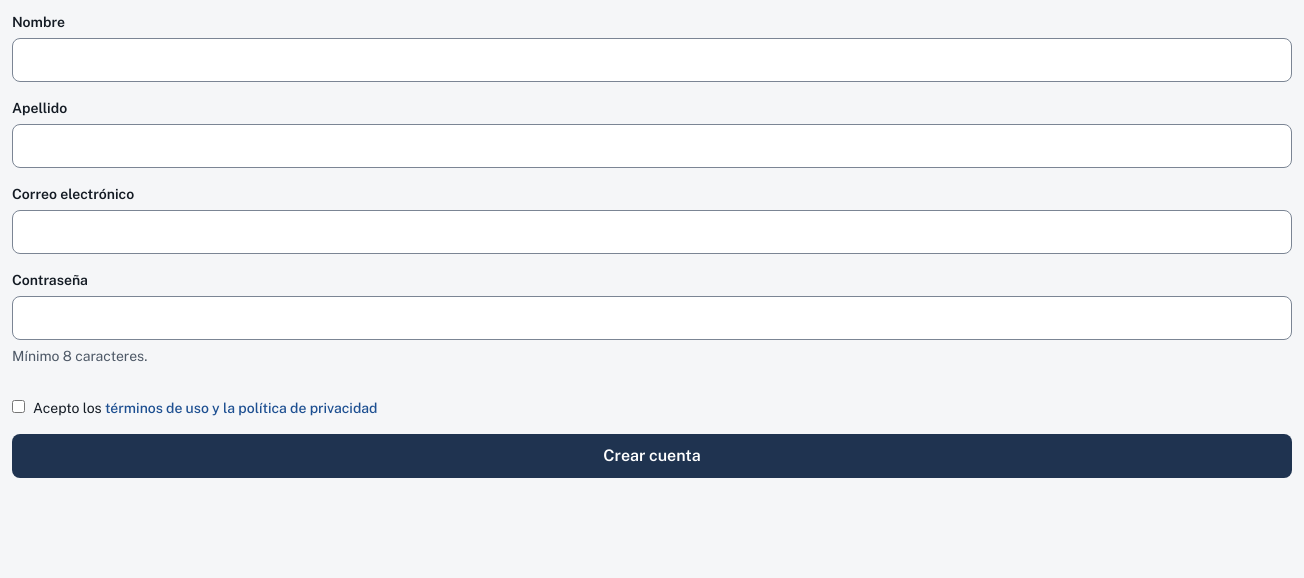
it: FormularioRegistro con captcha (NC-08b, Turnstile) › tras un 409 del captcha reinicia el widget y exige una verificación nueva
The image size is (1304, 578).
Type "Ana" into the field labelled "Nombre" at (652, 60), box x1=12 y1=38 x2=1292 y2=82
Type "Quispe" into the field labelled "Apellido" at (652, 146), box x1=12 y1=124 x2=1292 y2=168
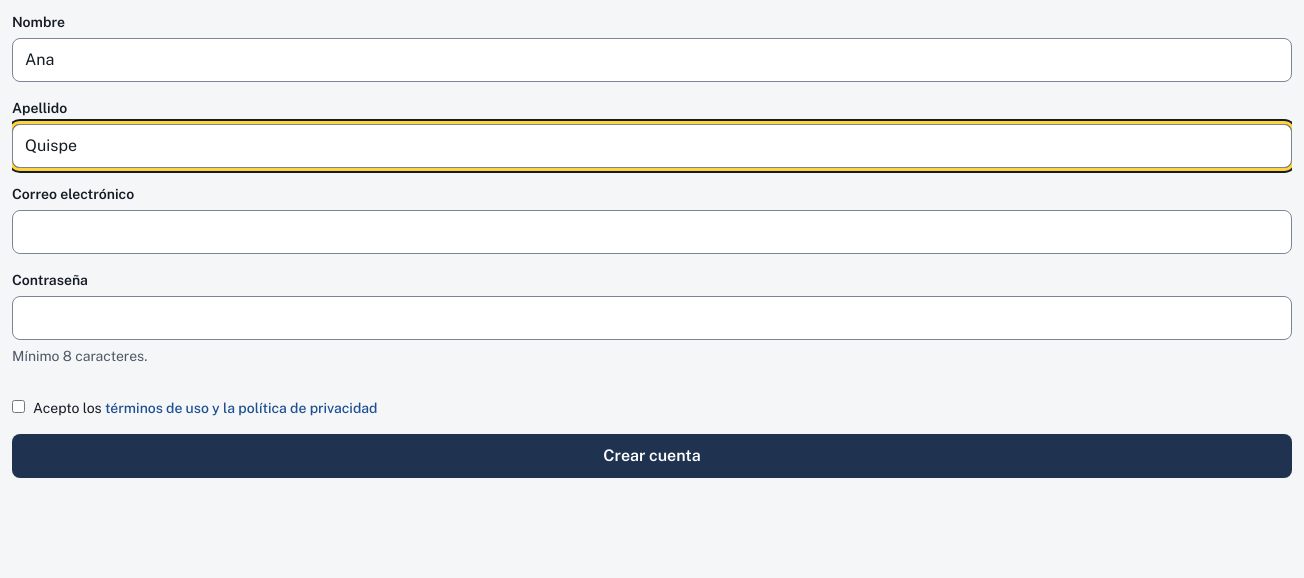
Type "ana@correo.pe" into the field labelled "Correo electrónico" at (652, 232), box x1=12 y1=210 x2=1292 y2=254
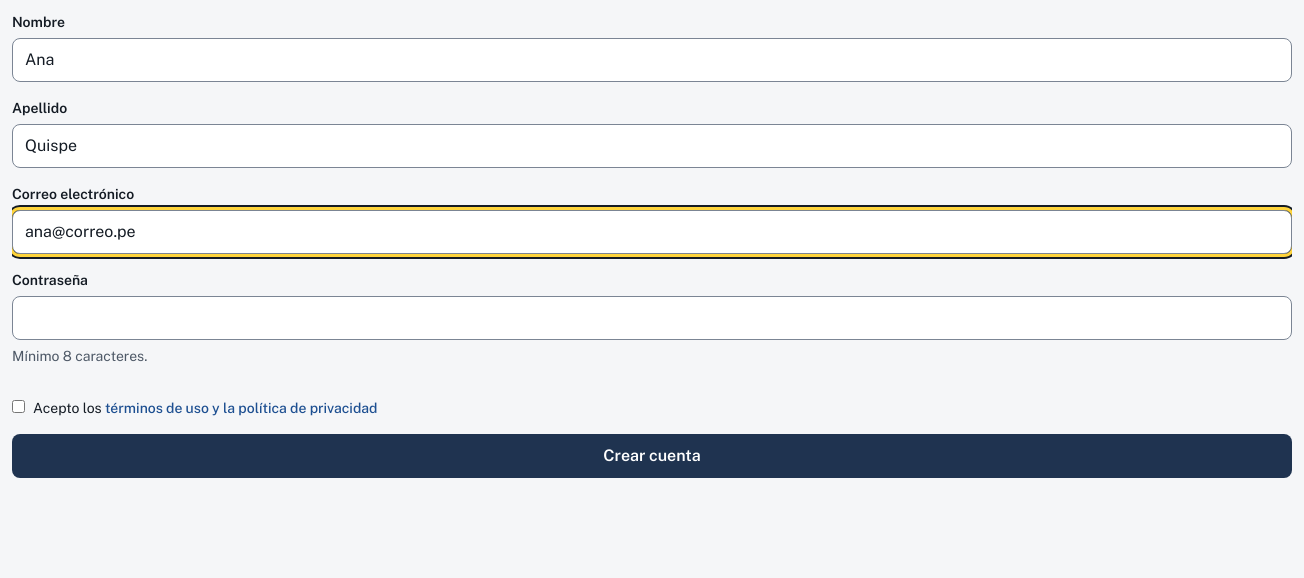
Type "claveSegura9" into the password field labelled "Contraseña" at (652, 318), box x1=12 y1=296 x2=1292 y2=340
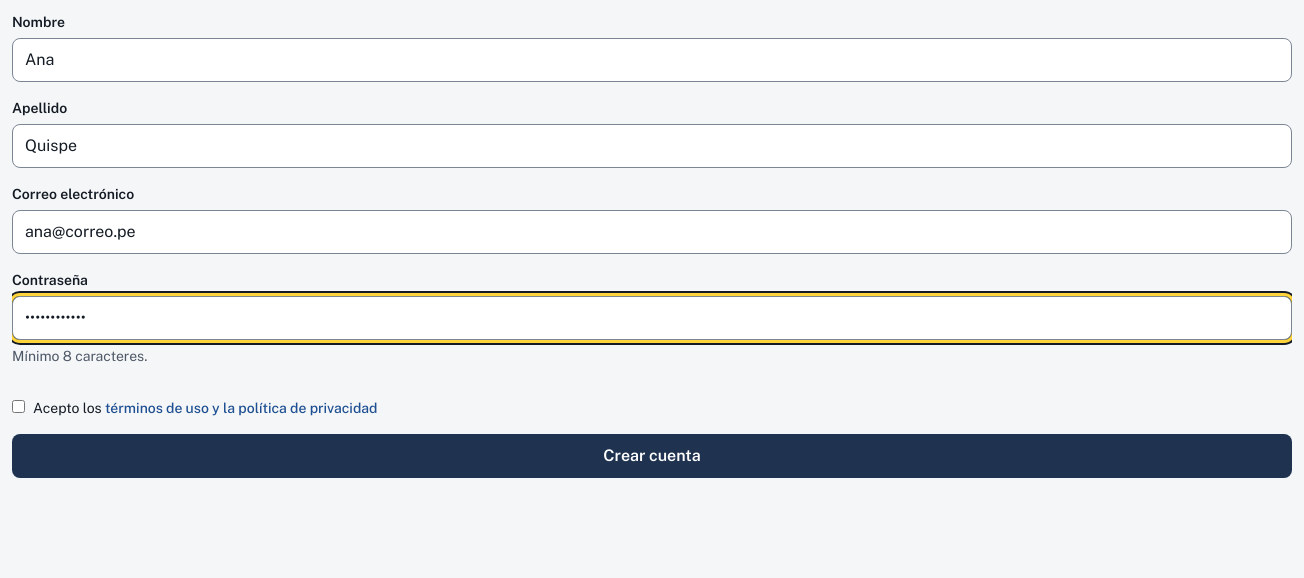
Click the checkbox at (18, 406), box x1=12 y1=400 x2=25 y2=413
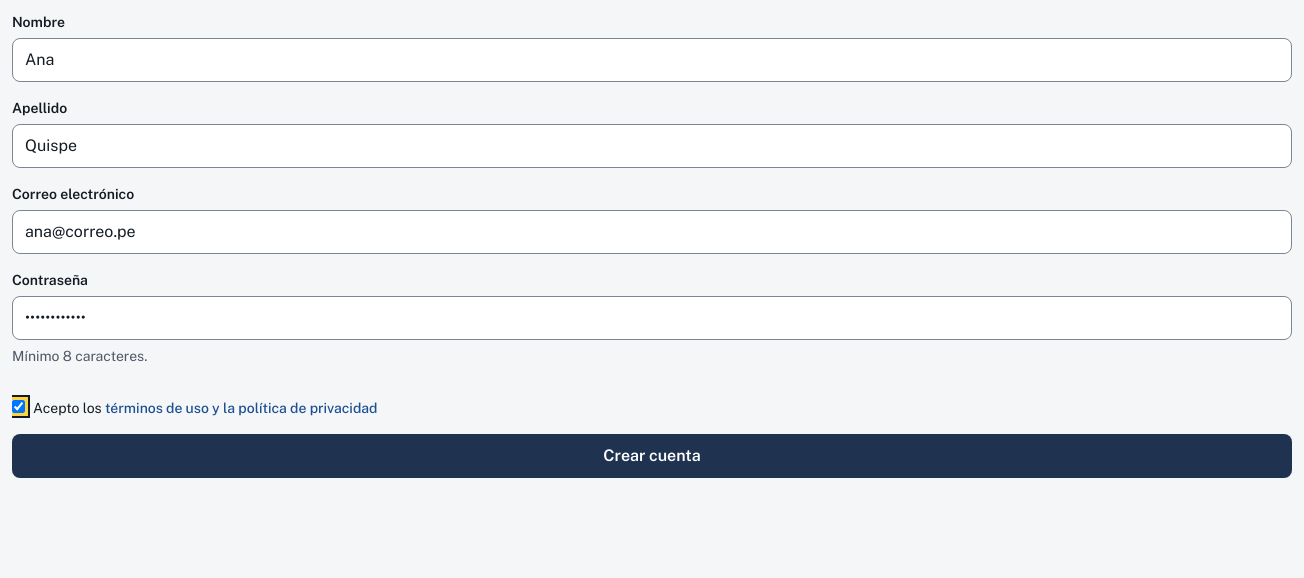
Click the button "Crear cuenta" at (652, 456), box x1=12 y1=434 x2=1292 y2=478
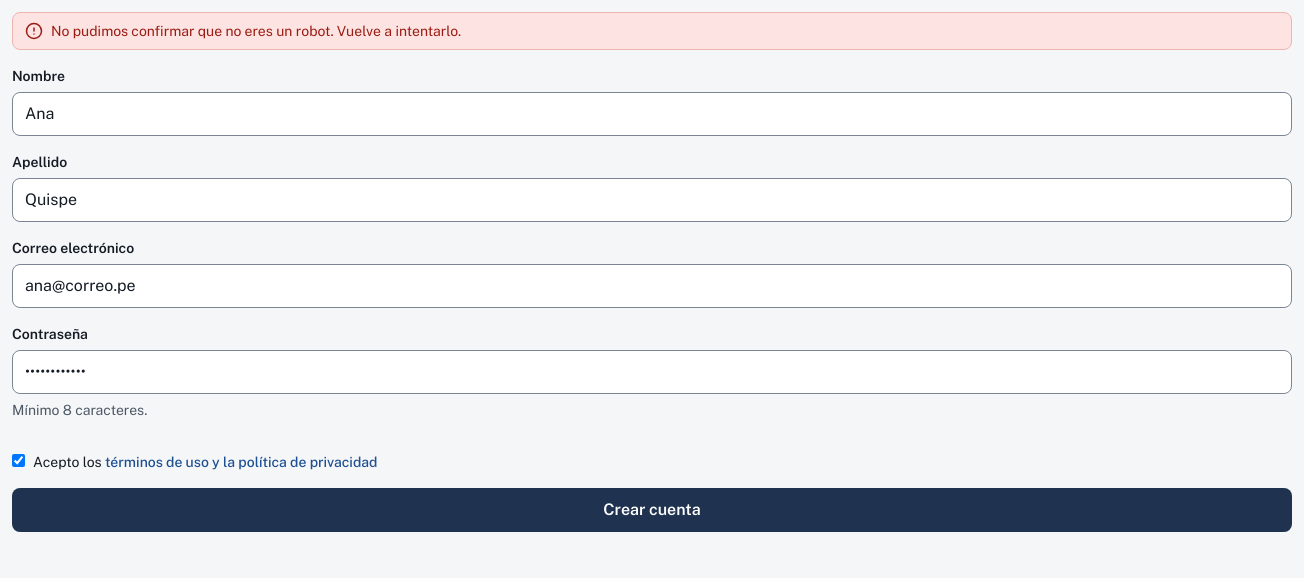
Expected: the checkbox is checked, x1=12 y1=454 x2=25 y2=467
Expected: the text "No pudimos confirmar que no eres un robot" is shown, x1=51 y1=23 x2=461 y2=39
Click the button "Crear cuenta" at (652, 510), box x1=12 y1=488 x2=1292 y2=532
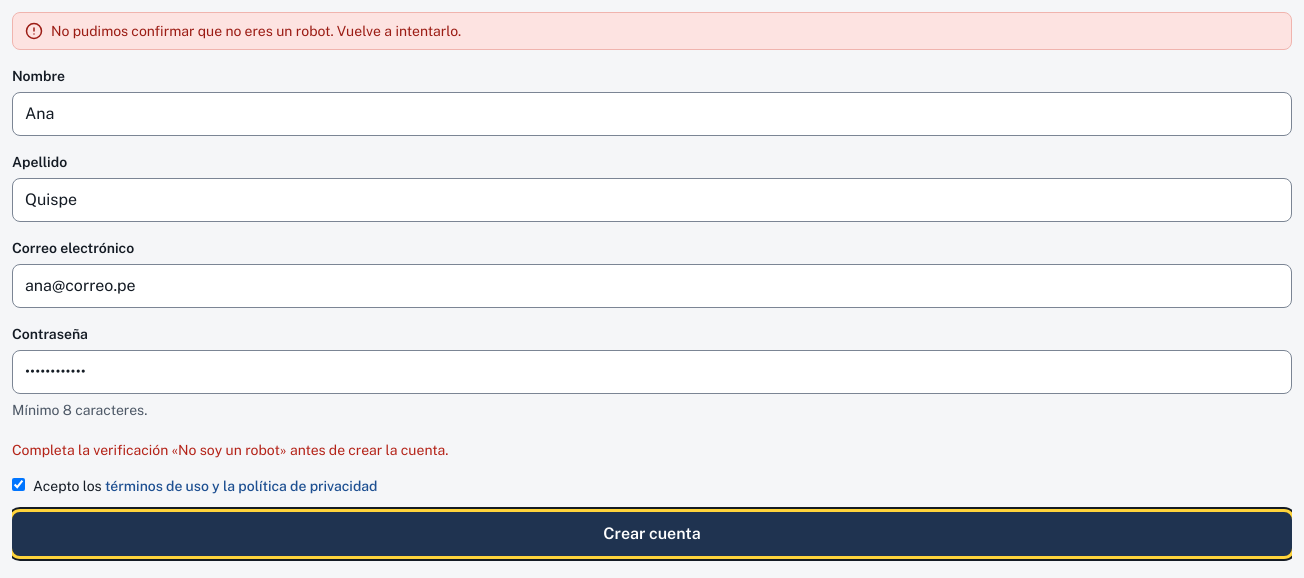
Expected: the text "Completa la verificación «No soy un robot» antes de crear la cuenta." is shown, x1=12 y1=442 x2=448 y2=458
